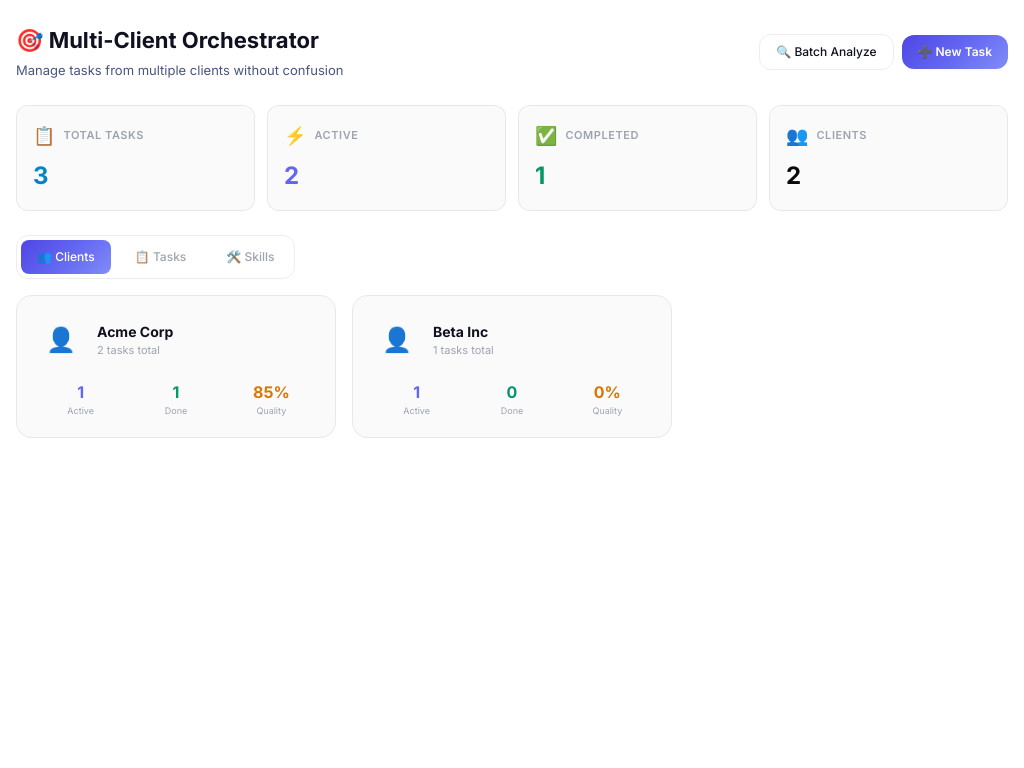
Test: MultiClientOrchestrator › filters tasks by search query
Step 1. Click the button "📋 Tasks" → (160, 256), box 119,240 -> 202,274
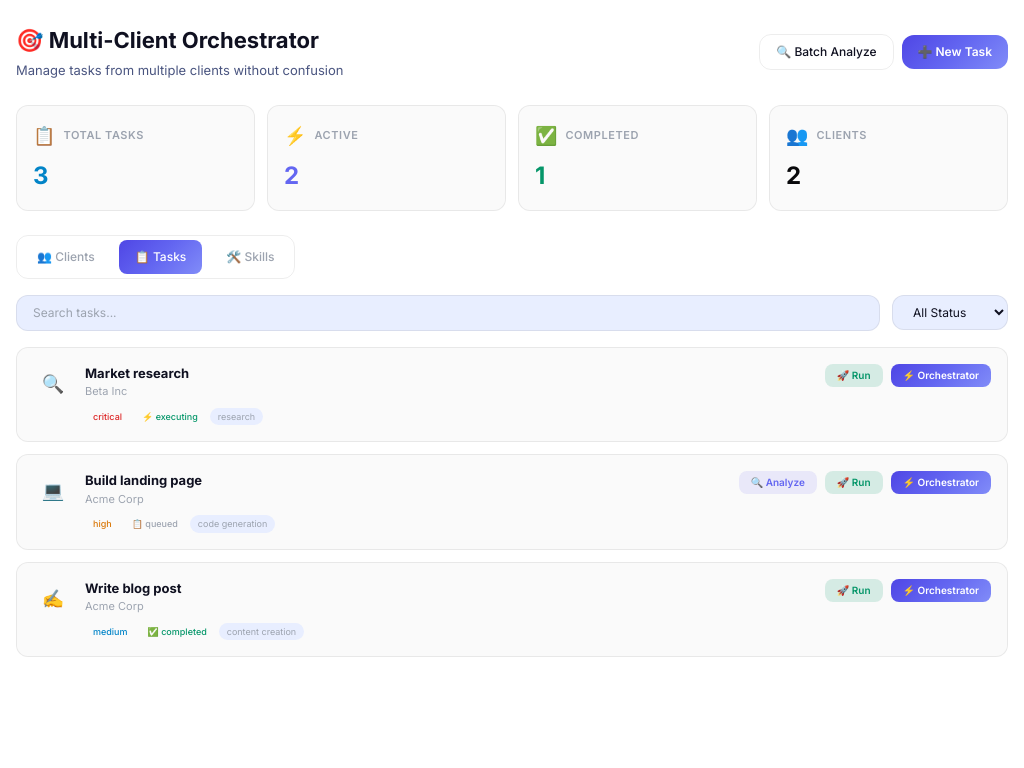
Step 2. Type "landing" into the field with placeholder "Search tasks..." → (448, 312), box 16,294 -> 880,330
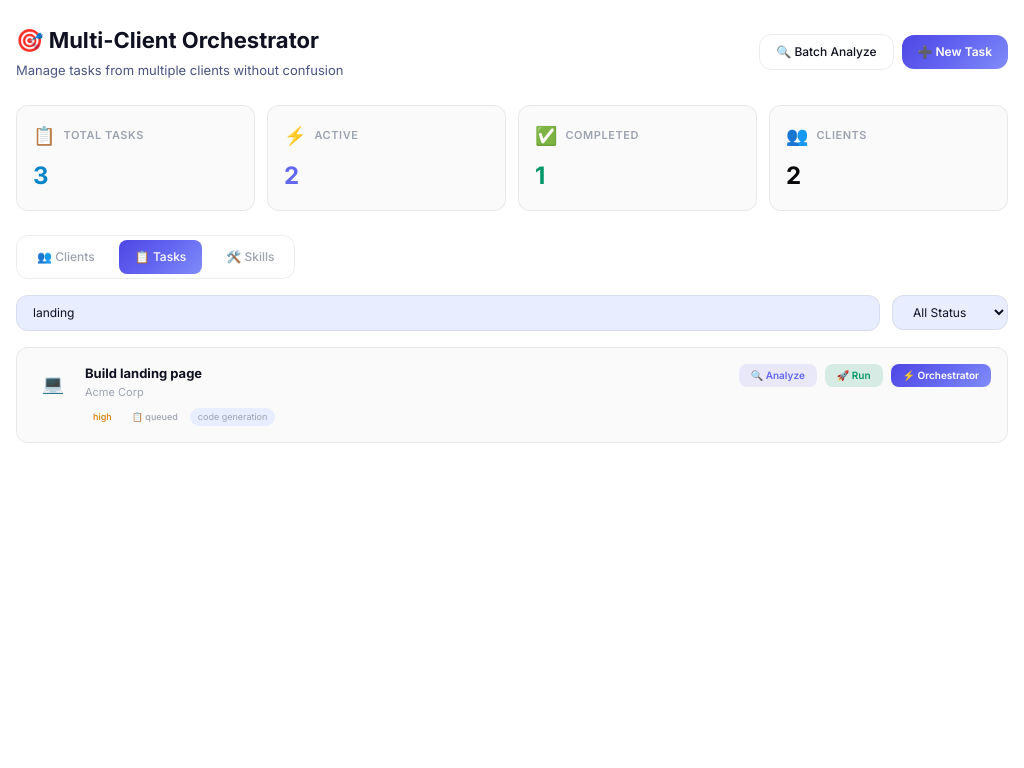
Expected: the heading "Build landing page" is shown, 85,364 -> 202,380
Expected: the heading "Market research" is gone
